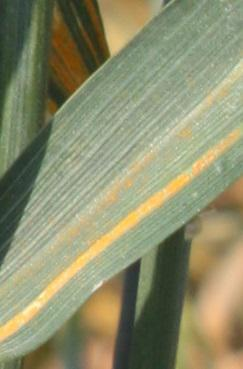Wheat: (1, 117, 242, 340)
